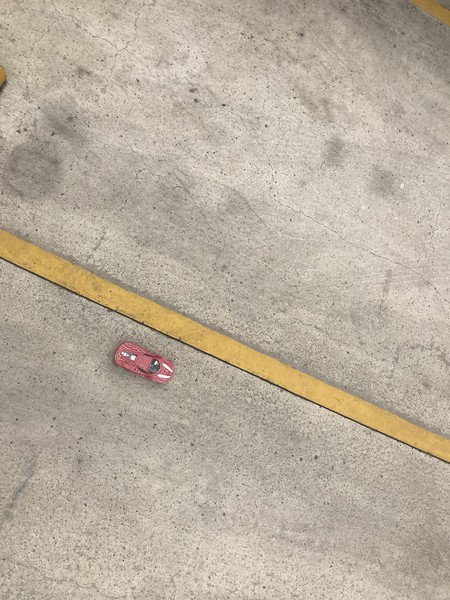RC: (112, 339, 178, 386)
